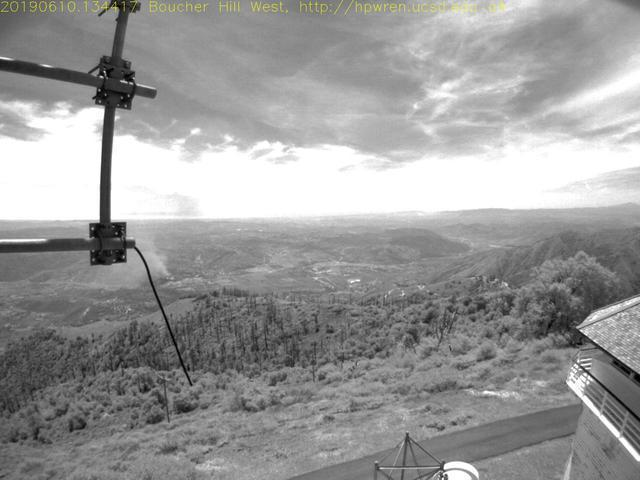Smoke: (123, 226, 175, 287)
